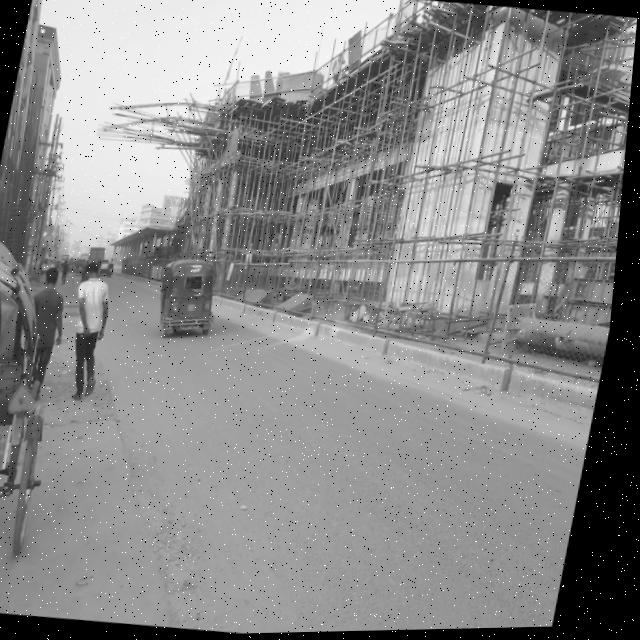cng: (148, 234, 252, 360)
